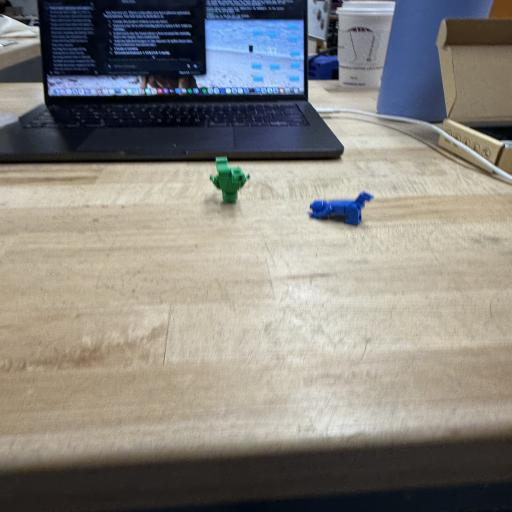blue-minifig: (310, 191, 373, 225)
green-minifig: (210, 157, 250, 203)
